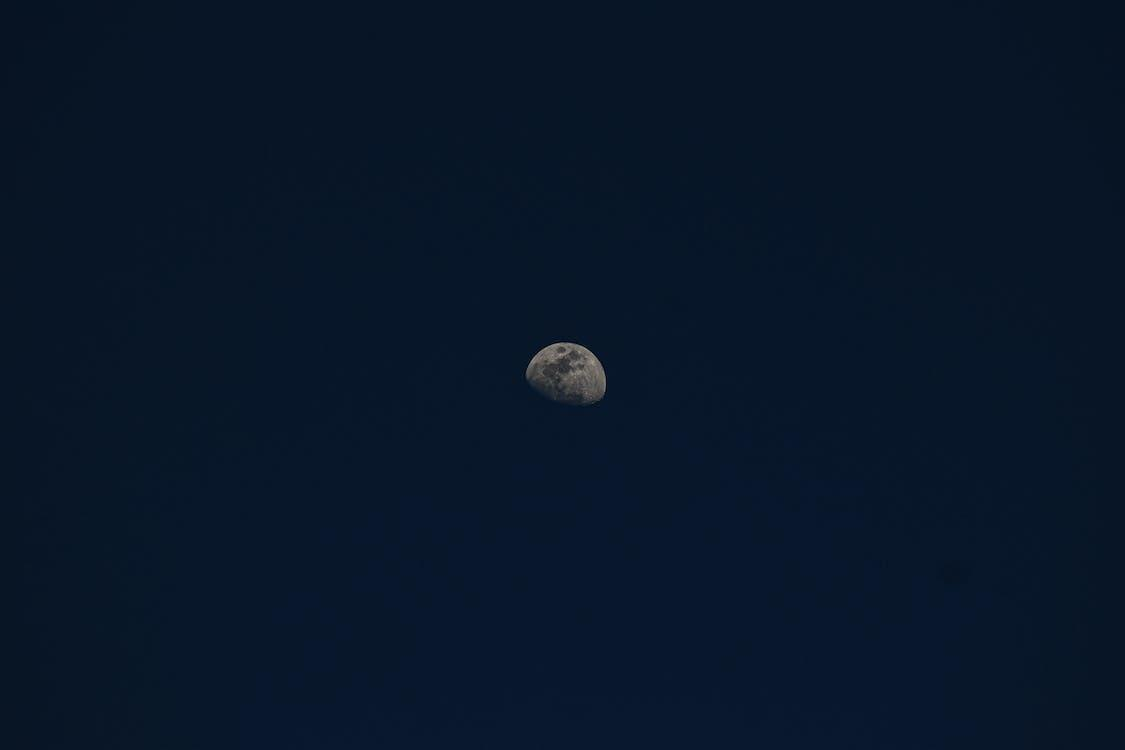moon: (522, 326, 612, 430)
